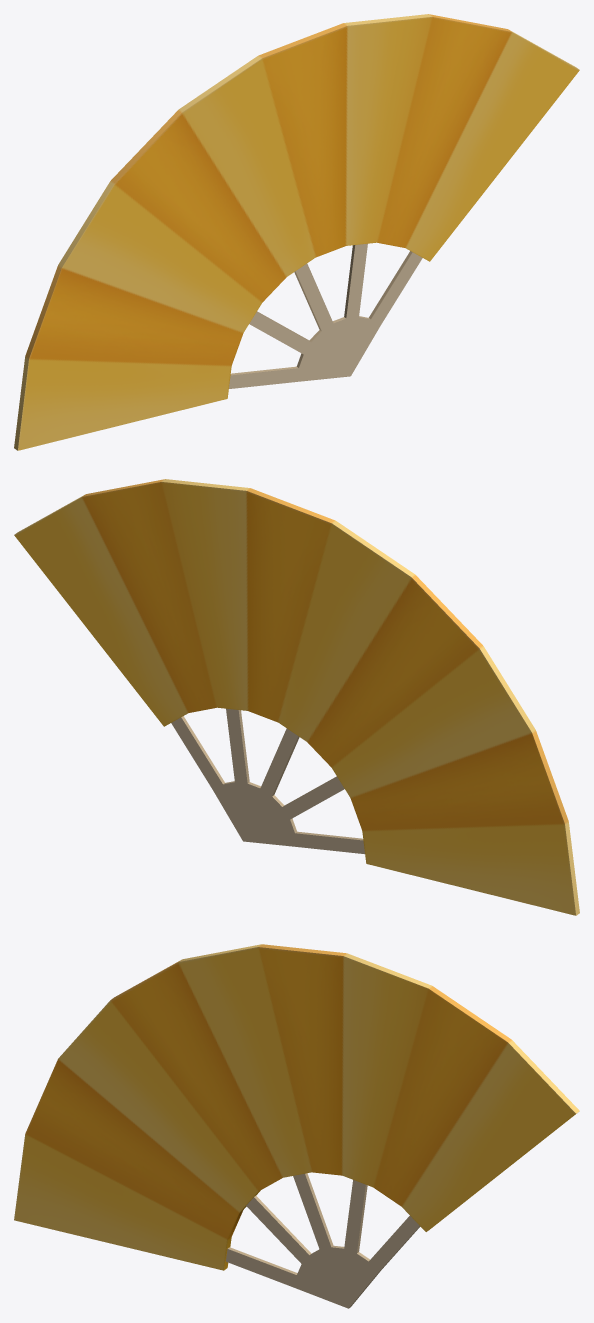
File: fan.FBX
The picture shows the model from 3 angles, top to bottom: view 1: azimuth 30°, elevation 25°; view 2: azimuth 150°, elevation 25°; view 3: azimuth 330°, elevation 25°; orthographic projection.
Visible parts, largest first — view 1: fan; view 2: fan; view 3: fan.
Part boxes in pixels (x1=…): fan: x1=14, y1=14, x2=579, y2=450; fan: x1=14, y1=479, x2=579, y2=915; fan: x1=14, y1=944, x2=579, y2=1308.
Bounding box in the file's own units: 43.38 × 25.97 × 0.5083.
